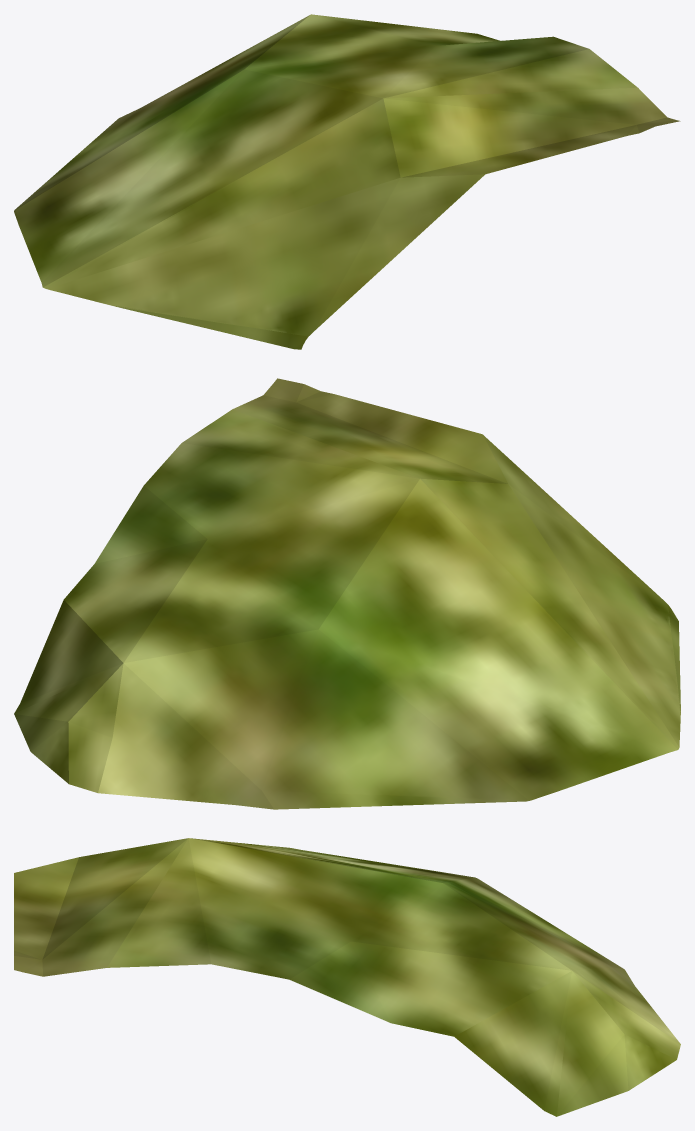
The picture shows the model from 3 angles, top to bottom: view 1: azimuth 30°, elevation 25°; view 2: azimuth 150°, elevation 25°; view 3: azimuth 270°, elevation 25°; orthographic projection. The views are drawn at different scales.
Bounding box in the file's own units: 0.2904 × 0.0828 × 0.3043.
1 material, 1 textured.
